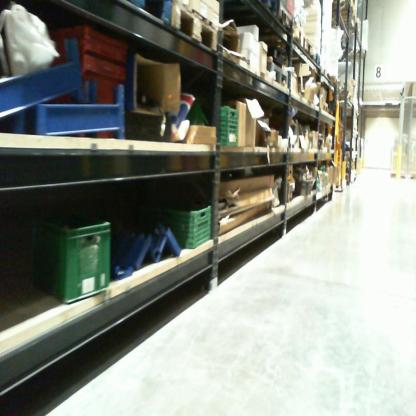pallet: (171, 3, 217, 52), (123, 1, 173, 37), (244, 8, 295, 32), (282, 16, 310, 50), (269, 51, 290, 93), (306, 46, 316, 62), (315, 53, 322, 69)
